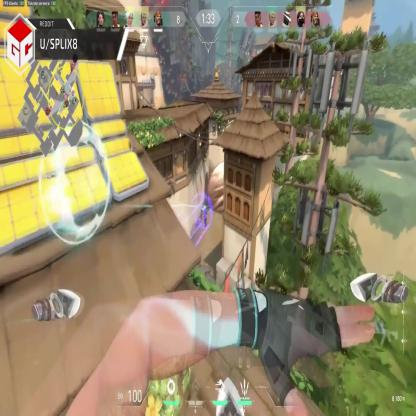enemy: (201, 205, 208, 227)
enemy_head: (203, 205, 206, 210)
